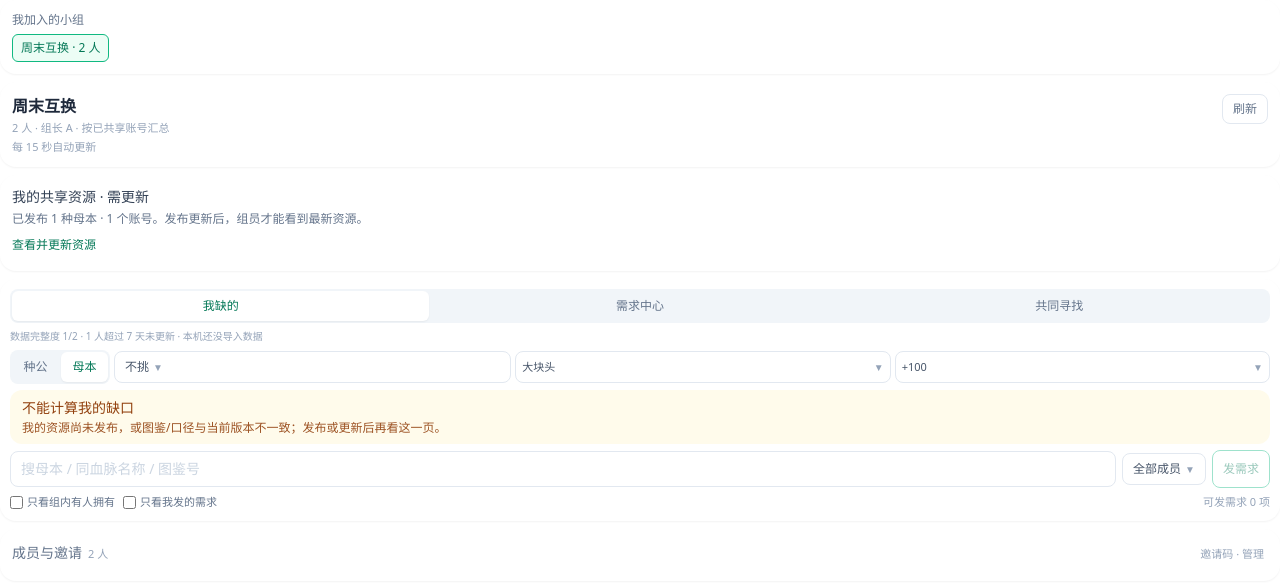
Test: MotherSharing 入口与状态 › 当前小组摘要和成员角色统一称为组长
Expected: the element with test id "mother-group-card" shows "组长 A", top-left (0, 82), bottom-right (1279, 167)
Click the button with test id "mother-members-toggle" at (60, 553), box top-left (12, 543), bottom-right (108, 563)
(page scrolled)
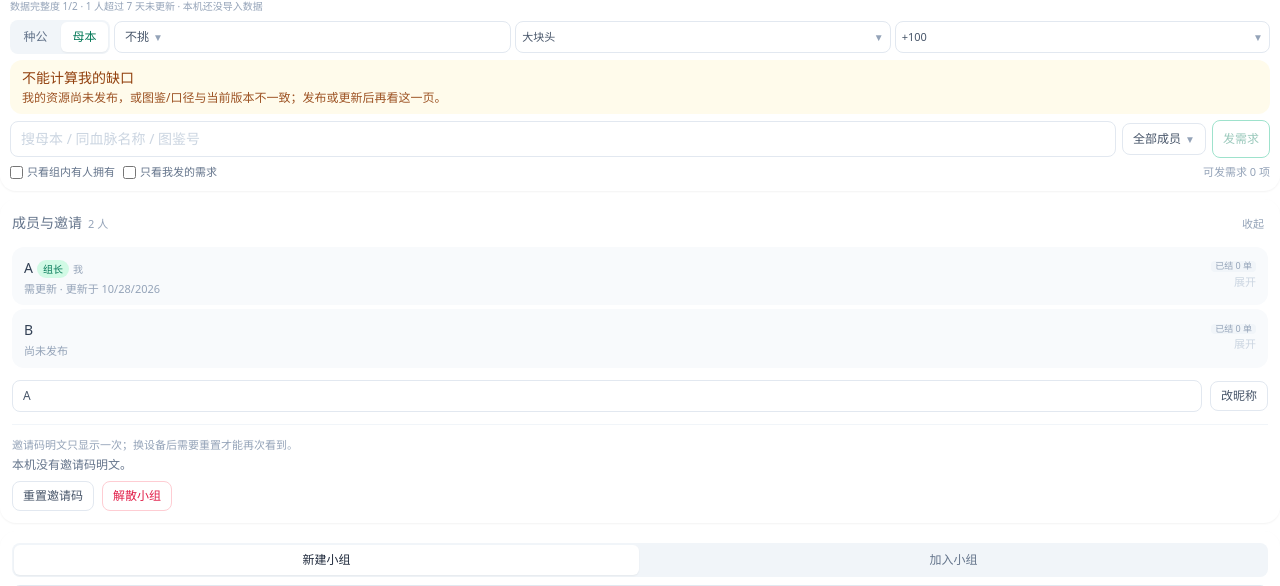
Expected: the element with test id "mother-members" shows "组长", top-left (24, 254), bottom-right (1203, 297)
